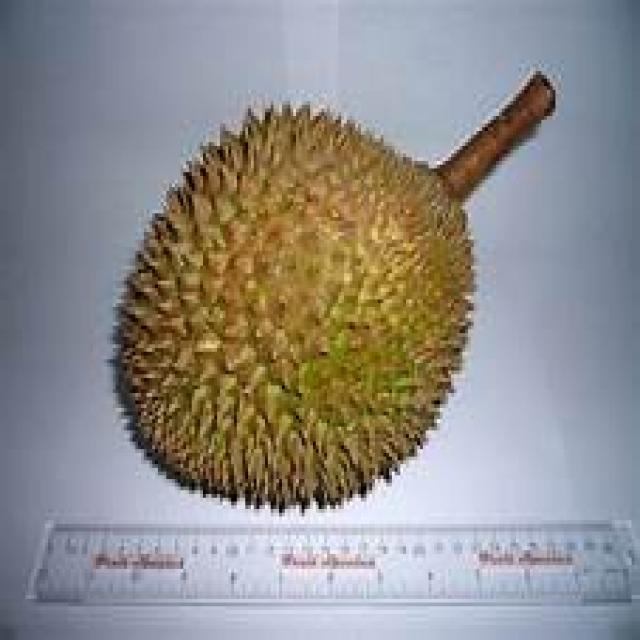mature: (118, 106, 474, 510)
